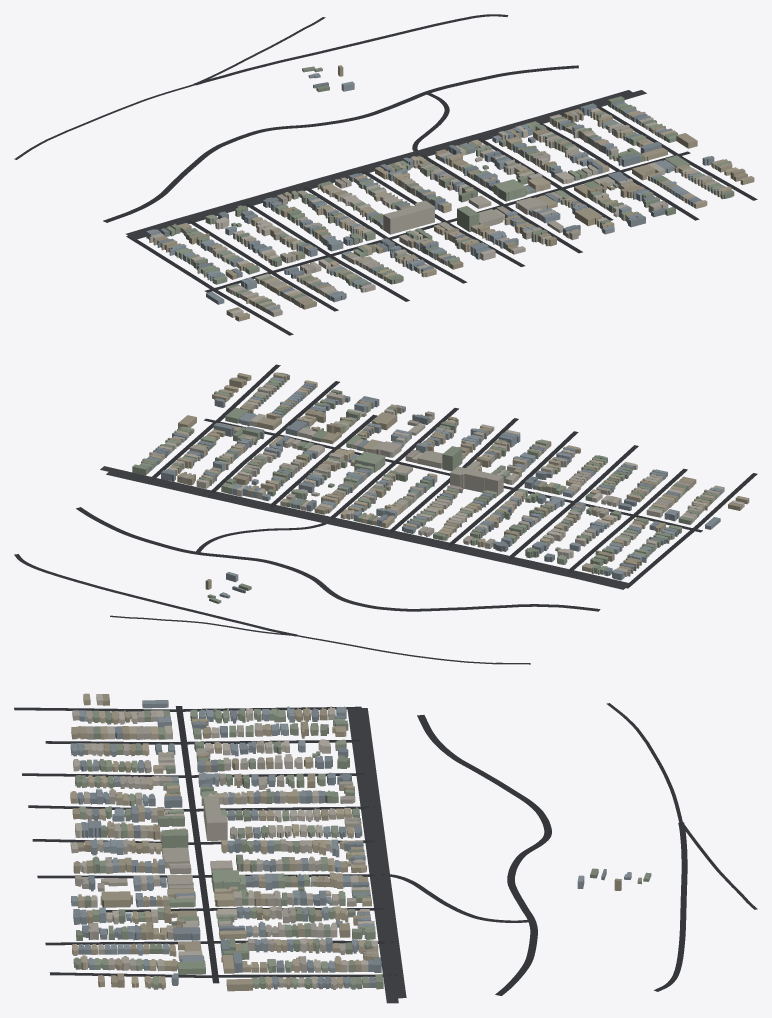
Rendered from tile_4_14.glb.
The picture shows the model from 3 angles, top to bottom: view 1: azimuth 30°, elevation 25°; view 2: azimuth 150°, elevation 25°; view 3: azimuth 270°, elevation 25°; orthographic projection. The views are drawn at different scales.
Visible parts, largest first — view 1: bld_4_14, road_4_14; view 2: bld_4_14, road_4_14; view 3: bld_4_14, road_4_14.
Part boxes in pixels (x1,y1,x2,y2): bld_4_14: (146,65,754,321); road_4_14: (14,14,757,335); bld_4_14: (132,372,749,603); road_4_14: (14,364,757,664); bld_4_14: (70,693,651,991); road_4_14: (14,703,757,1003).
Size of the model in its own units: 849 by 40.72 by 870.
